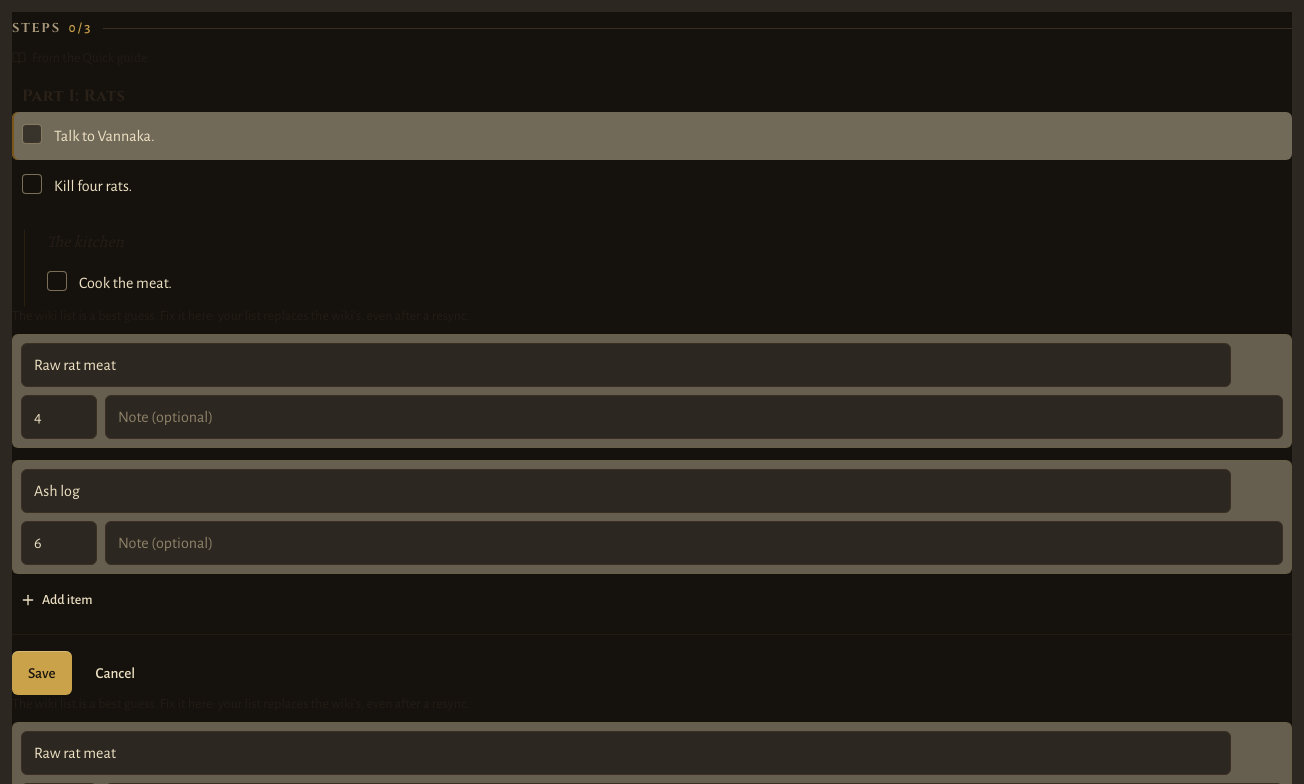
QuestSteps › groups steps under their headings and toggles progress
Step 1. Click the checkbox labelled "Talk to Vannaka." → (32, 134), box [22,124,42,144]
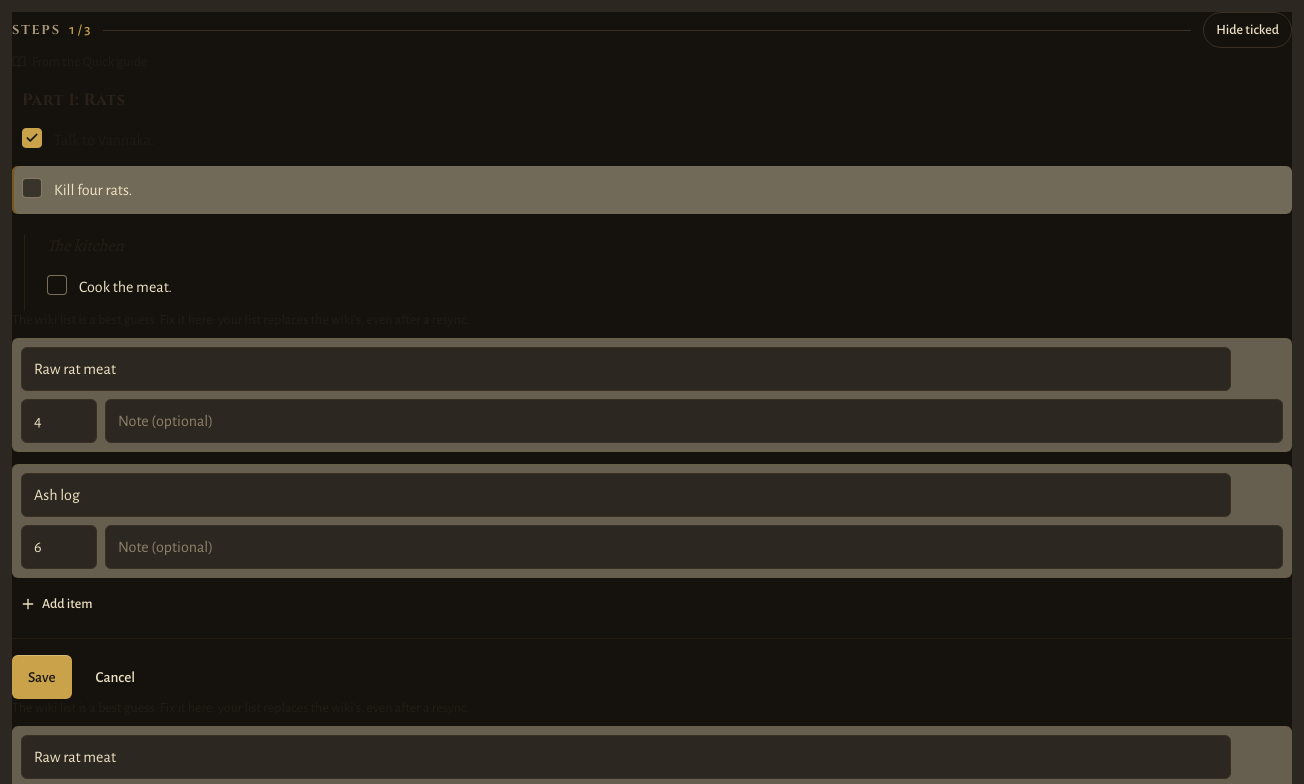
Now the text "1 / 3" is shown, box [69,20,91,40]
